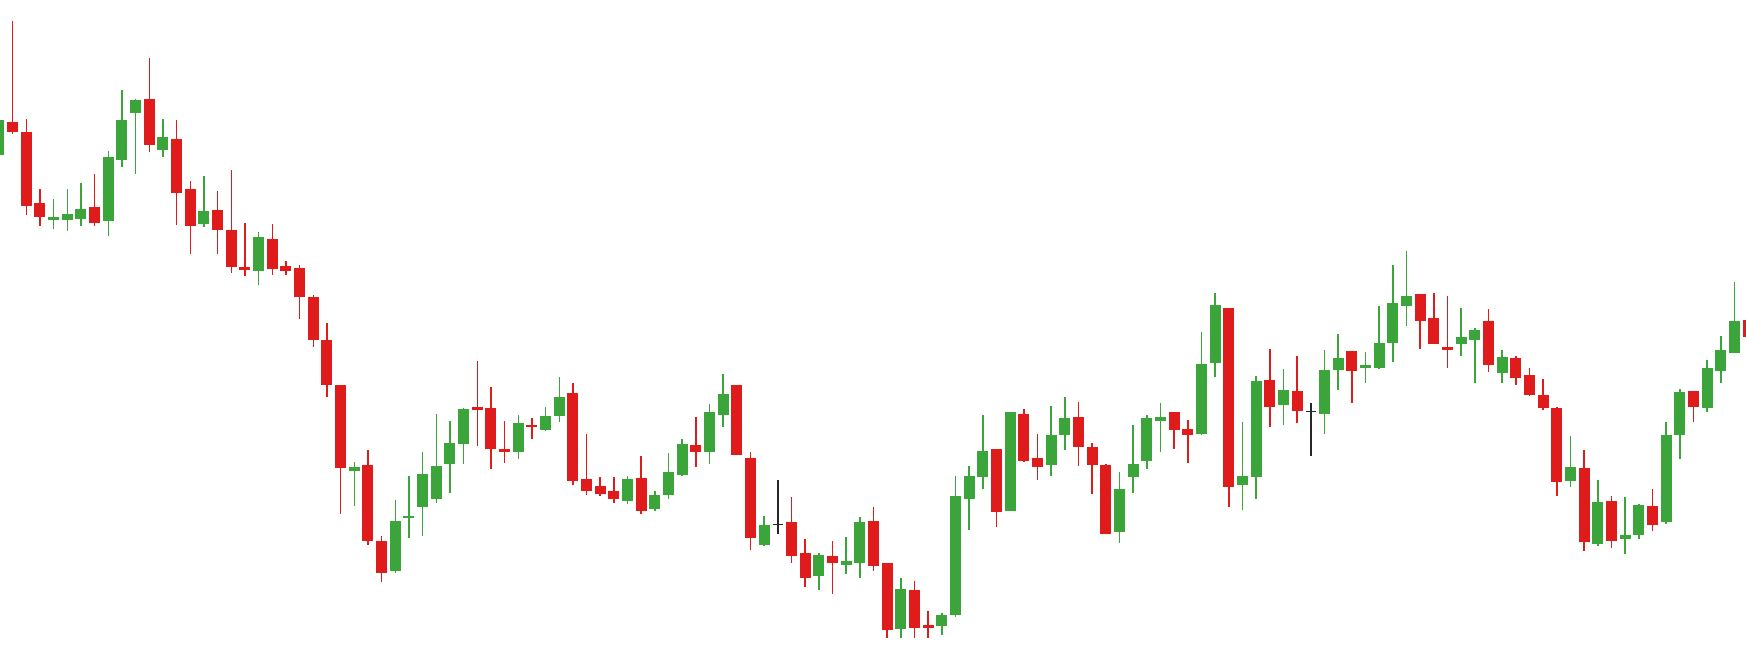buy: (990, 428, 1128, 547)
sell: (545, 373, 743, 477)
